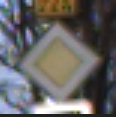yellow: (15, 21, 104, 100)
